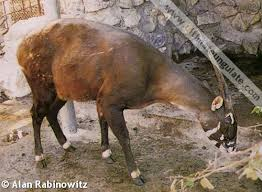sao_la: (21, 25, 238, 178)
